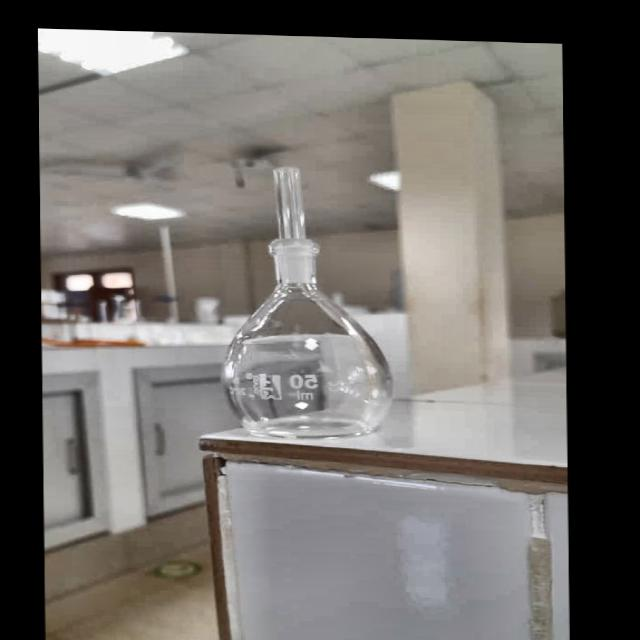Density Bottle for Liquids: (179, 155, 397, 446)
